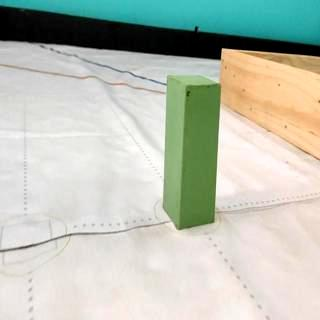greenbox: (162, 74, 221, 230)
